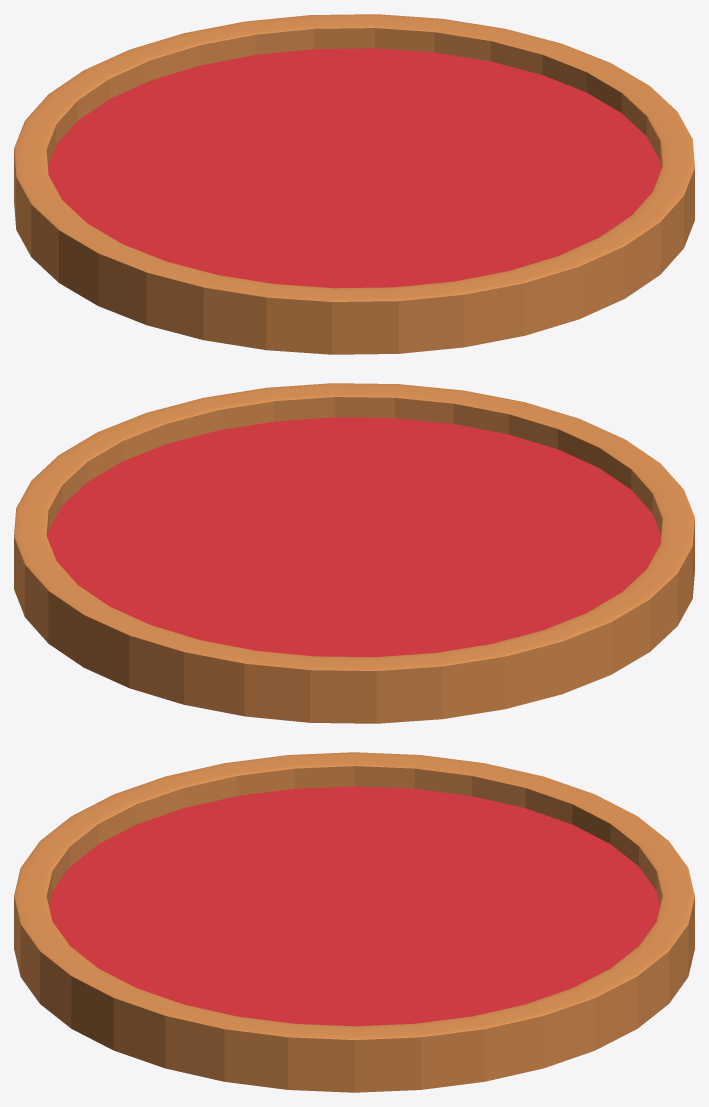
The model's file is KuchenErdbeere.fbx.
3 renders of one model, top to bottom at view 1: azimuth 30°, elevation 25°; view 2: azimuth 150°, elevation 25°; view 3: azimuth 270°, elevation 25°, orthographic.
Parts seen in each view (by area): view 1: Cylinder; view 2: Cylinder; view 3: Cylinder.
Boxes of the visible parts, box(x1,y1,x2,y2) form: Cylinder: box(14, 14, 694, 354); Cylinder: box(14, 383, 694, 723); Cylinder: box(14, 752, 694, 1092).
Size of the model in its own units: 150 by 13 by 150.
